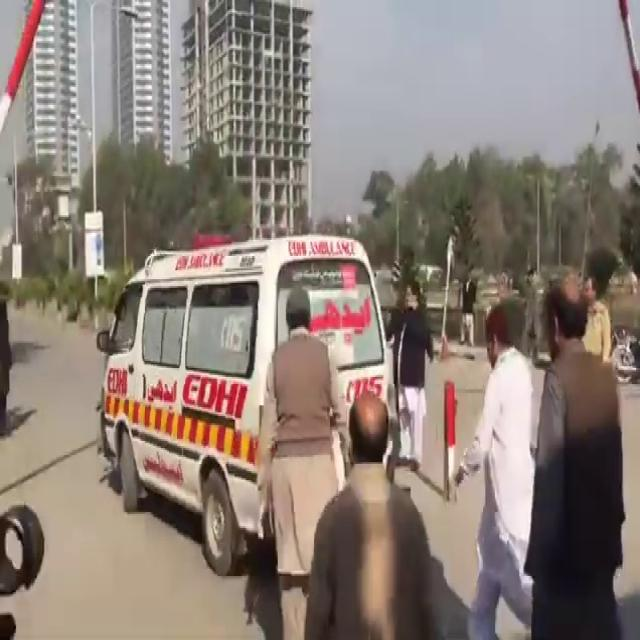ambulance: (80, 160, 409, 582)
